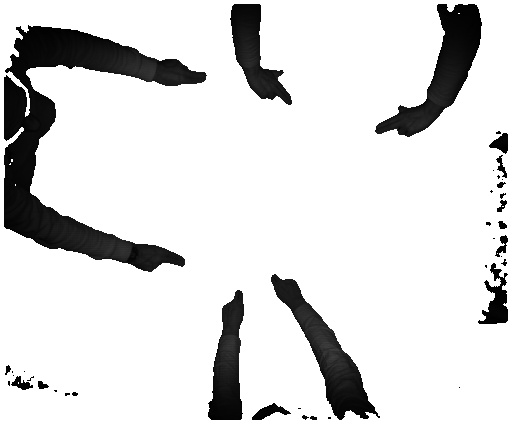hand: (373, 105, 433, 143), (248, 66, 295, 111), (264, 272, 311, 312), (134, 240, 191, 271), (216, 288, 247, 332), (158, 60, 207, 87)
